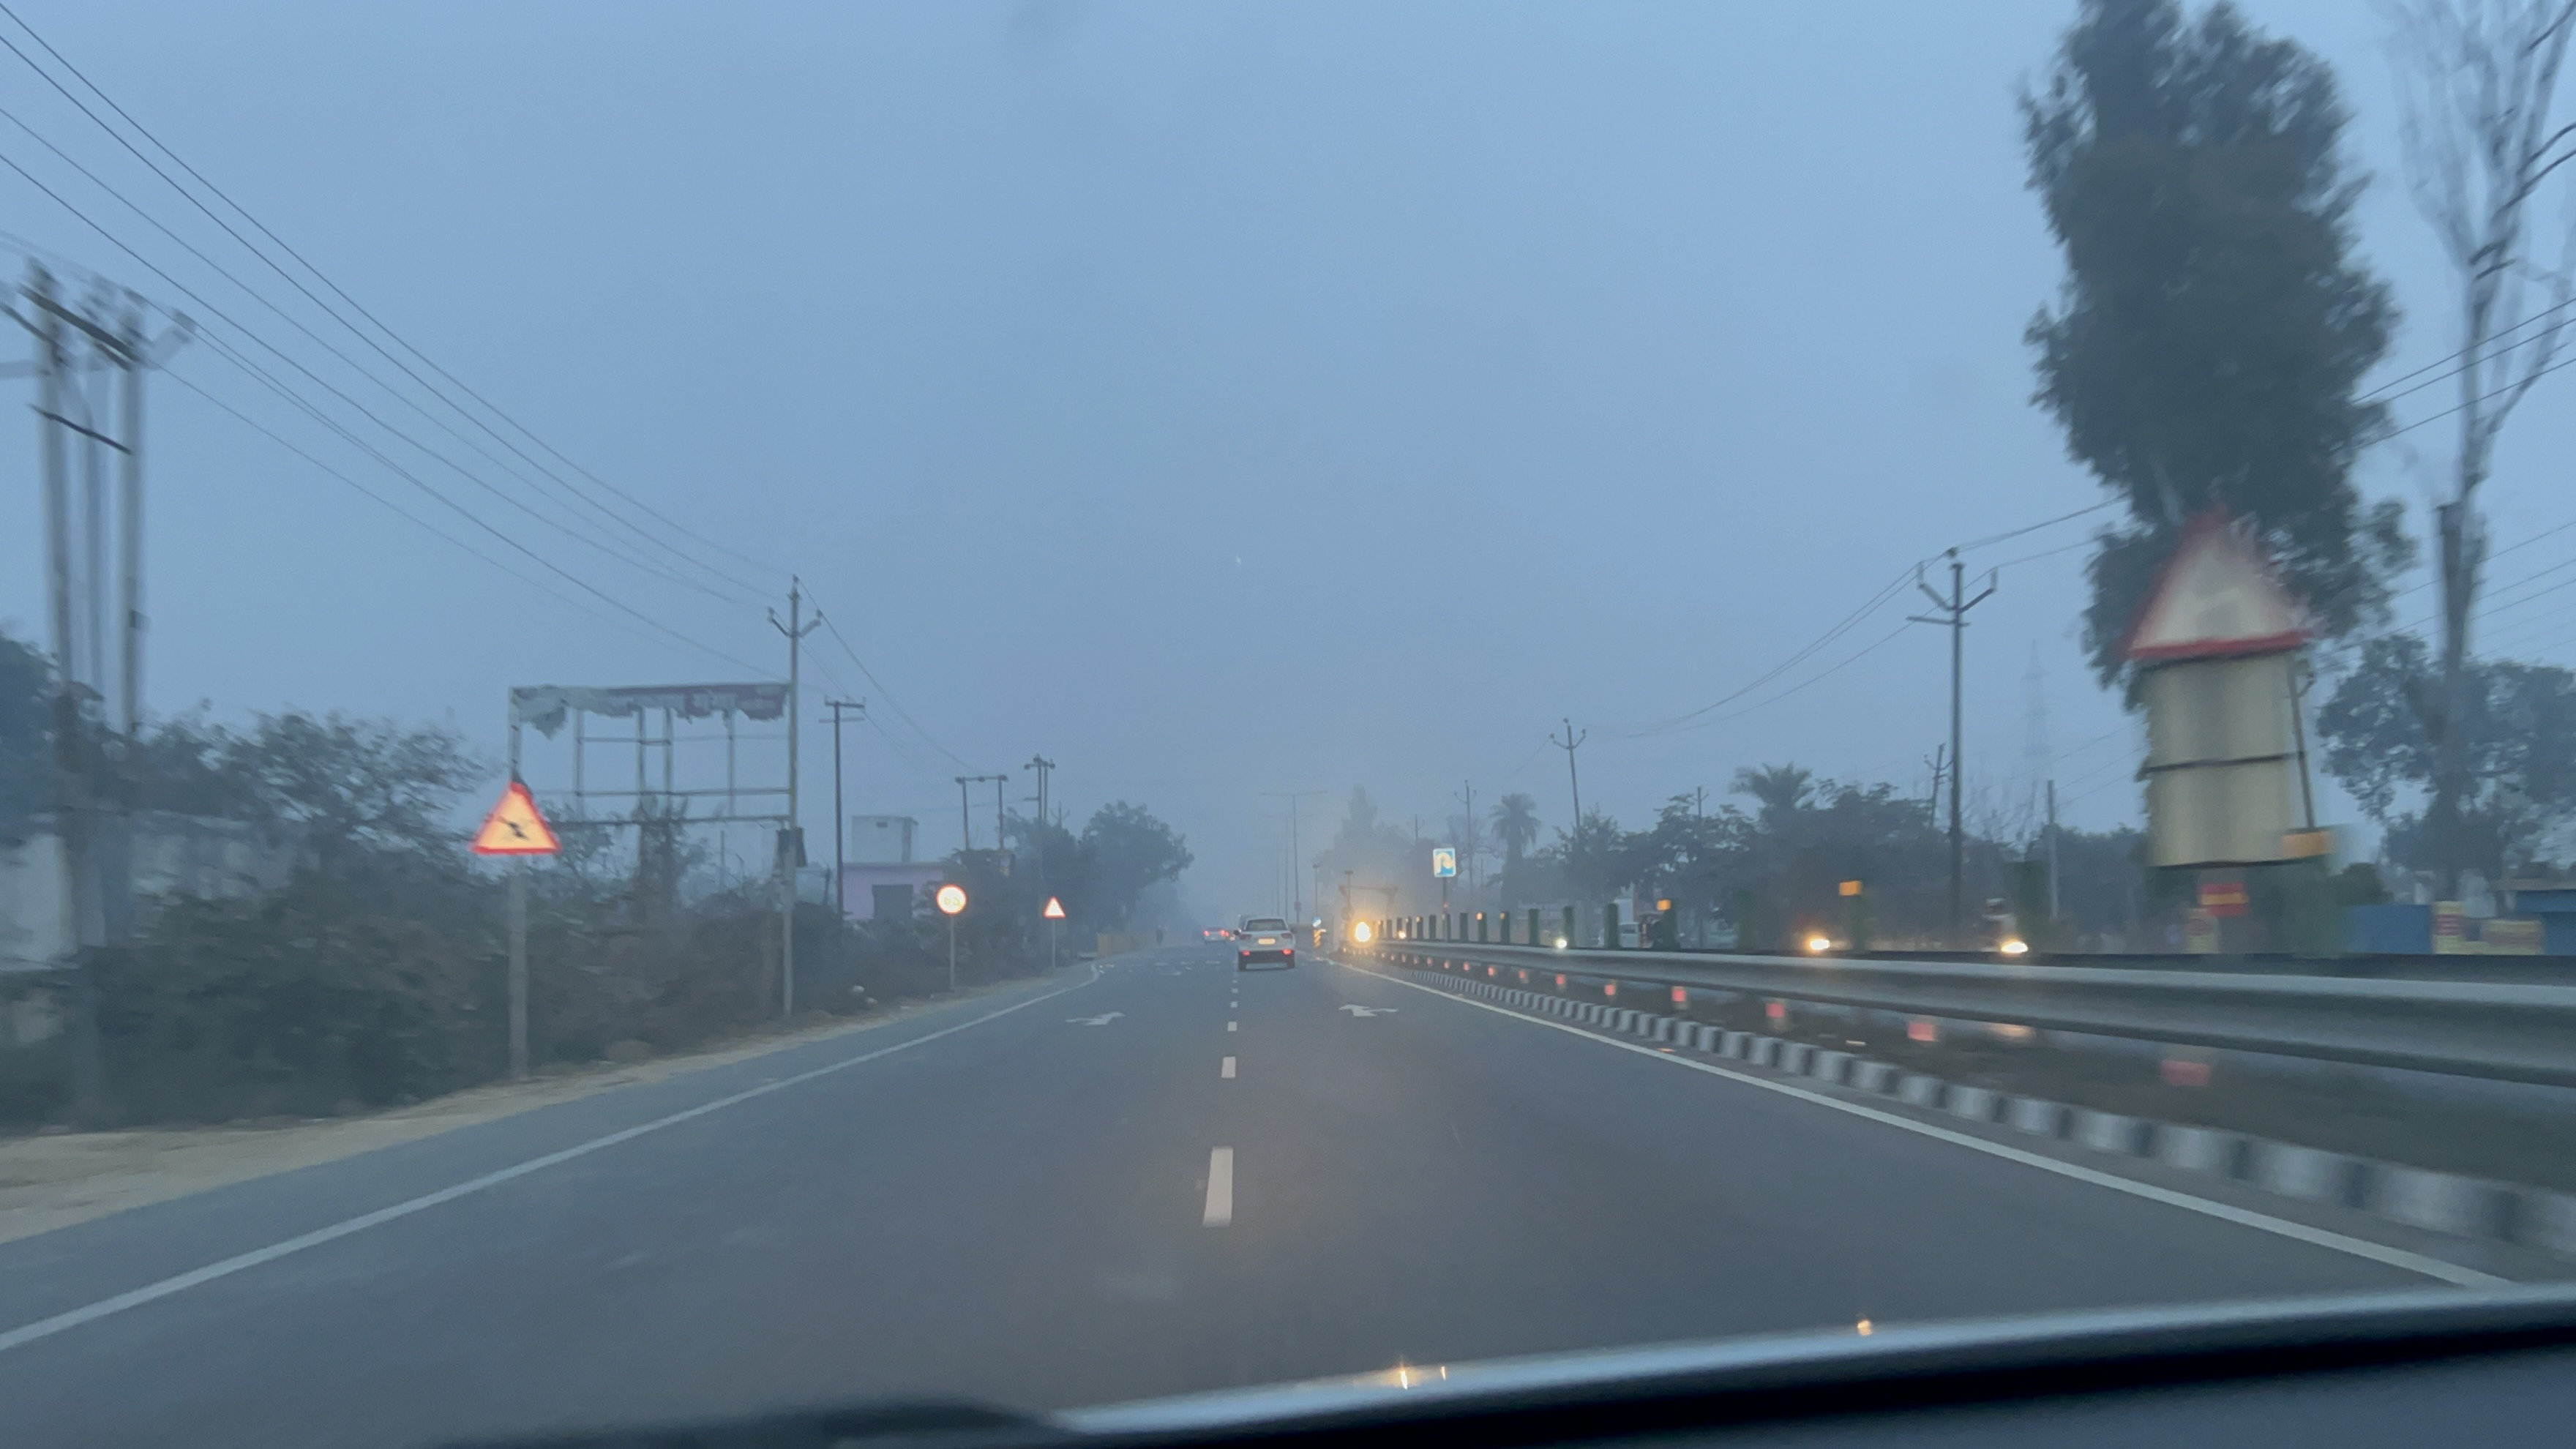Informatory: (1431, 847, 1458, 878)
Mandatory: (934, 881, 971, 915)
Regulatory: (1311, 916, 1323, 932)
Warning: (2125, 515, 2309, 658), (462, 773, 559, 855), (1042, 893, 1067, 918)
